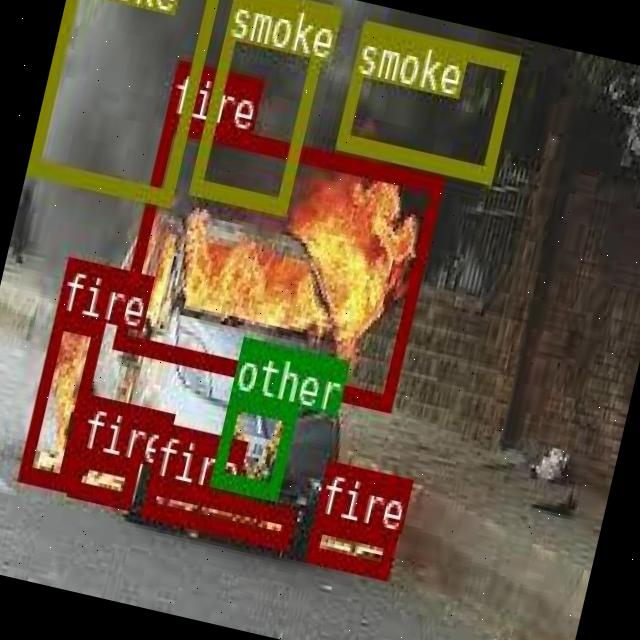fire: (112, 113, 440, 405), (17, 310, 104, 486), (140, 474, 294, 544), (304, 512, 396, 576), (65, 447, 136, 506)
smoke: (25, 0, 220, 203), (187, 0, 331, 213), (334, 19, 518, 181)
